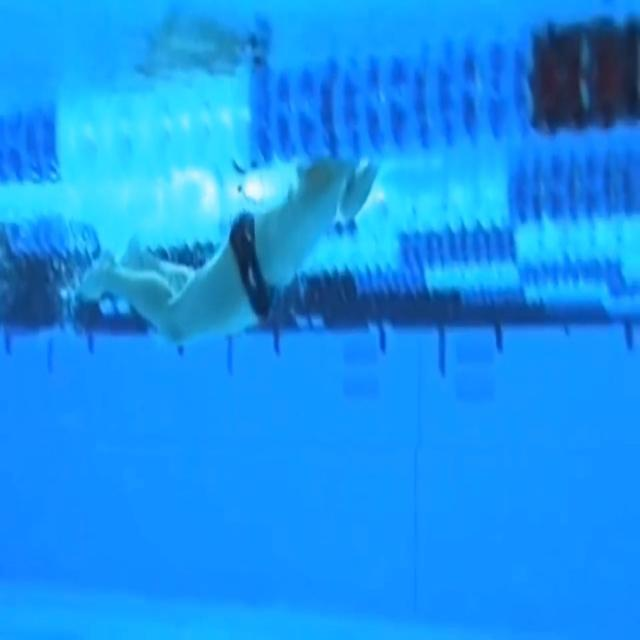Swimming: (78, 154, 382, 343)
